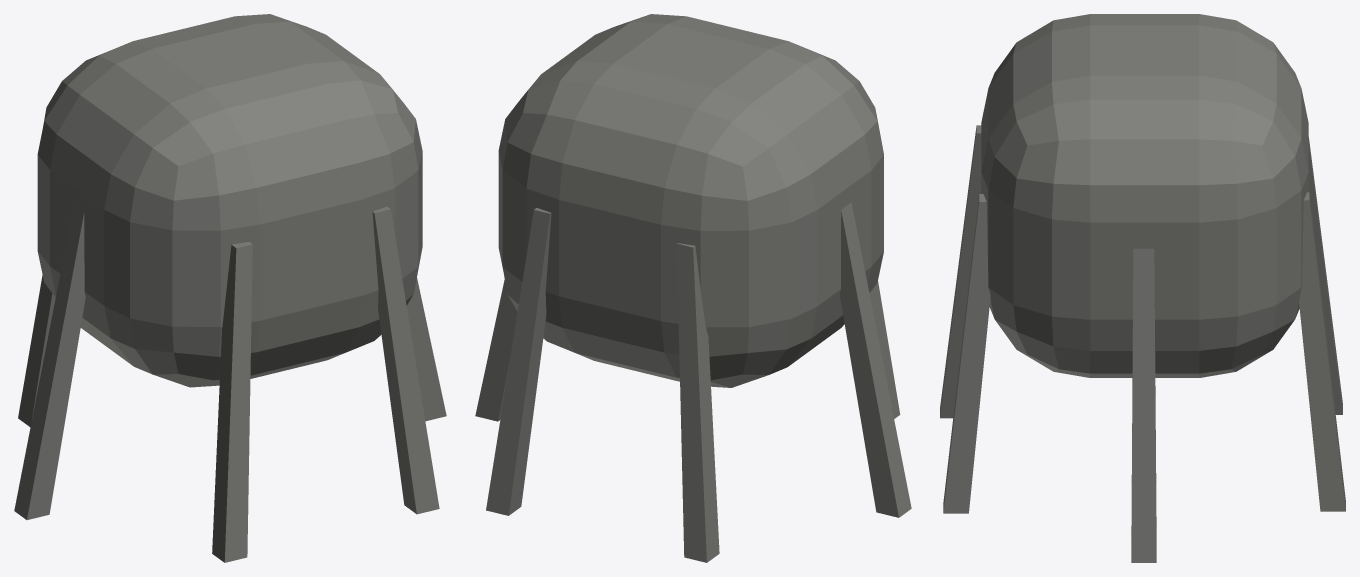
File: Radar1.fbx
3 views of the same model, side by side, from view 1: azimuth 30°, elevation 25°; view 2: azimuth 150°, elevation 25°; view 3: azimuth 270°, elevation 25° (orthographic).
Visible parts, largest first — view 1: Radar1; view 2: Radar1; view 3: Radar1.
Part boxes in pixels (box(x1,y1,x2,y2)): Radar1: box(14, 14, 446, 562); Radar1: box(475, 14, 911, 562); Radar1: box(940, 14, 1345, 562).
Bounding box in the file's own units: 44.18 × 40.68 × 36.55.
